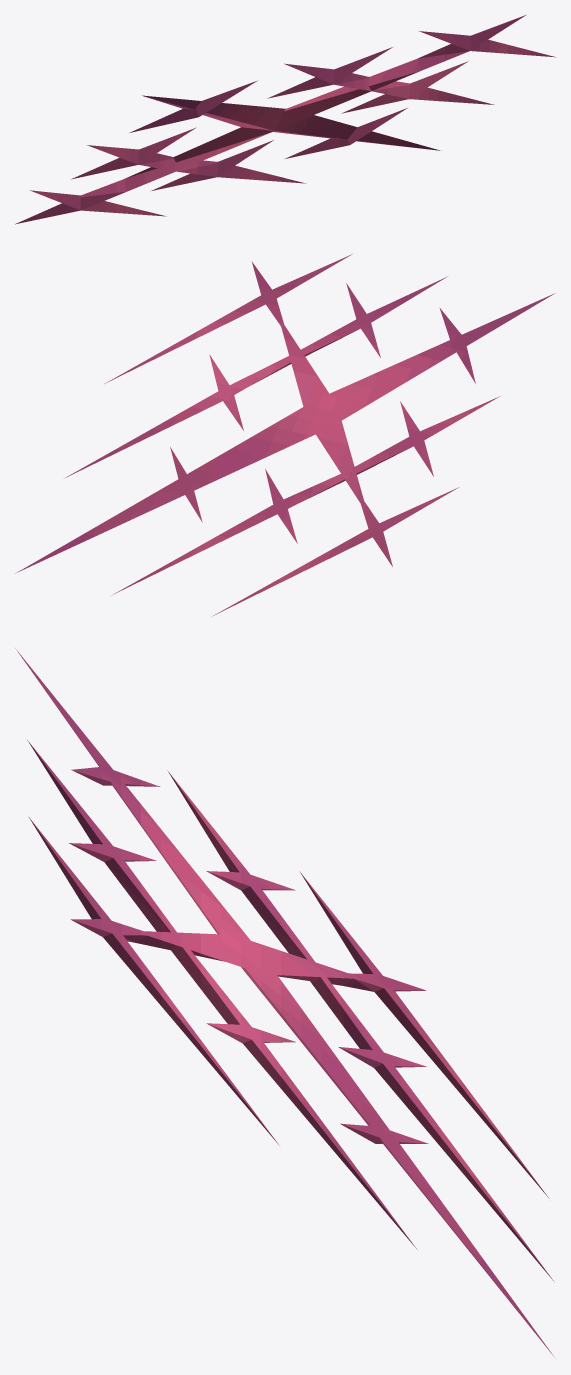
The model's file is Misaki_Original_Halo.fbx.
The picture shows the model from 3 angles, top to bottom: view 1: azimuth 30°, elevation 25°; view 2: azimuth 150°, elevation 25°; view 3: azimuth 270°, elevation 25°; orthographic projection. The views are drawn at different scales.
Visible parts, largest first — view 1: Misaki_Original_Halo; view 2: Misaki_Original_Halo; view 3: Misaki_Original_Halo.
Part boxes in pixels (x1=…): Misaki_Original_Halo: x1=15, y1=14, x2=555, y2=224; Misaki_Original_Halo: x1=15, y1=254, x2=554, y2=616; Misaki_Original_Halo: x1=15, y1=648, x2=555, y2=1358.
Bounding box in the file's own units: 0.294 × 0.1881 × 0.2241.
Materials: 1 (1 with a texture image).
